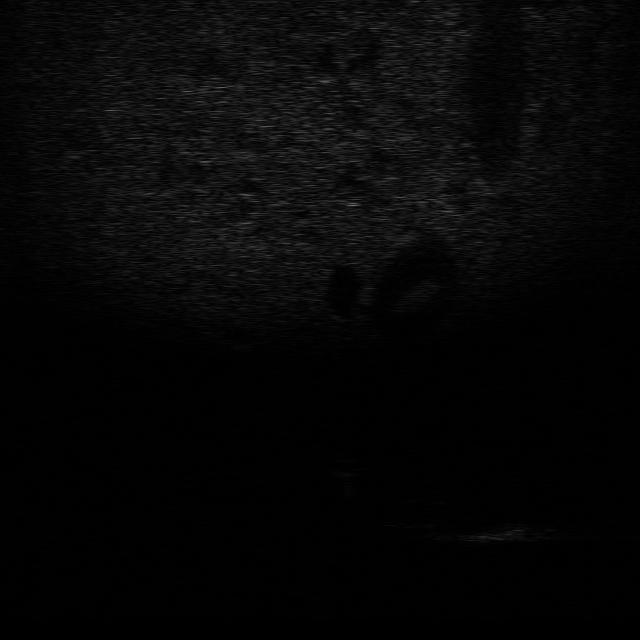ball: (326, 455, 369, 478)
metal bucket: (452, 516, 552, 547)
tyre: (380, 496, 456, 531)
